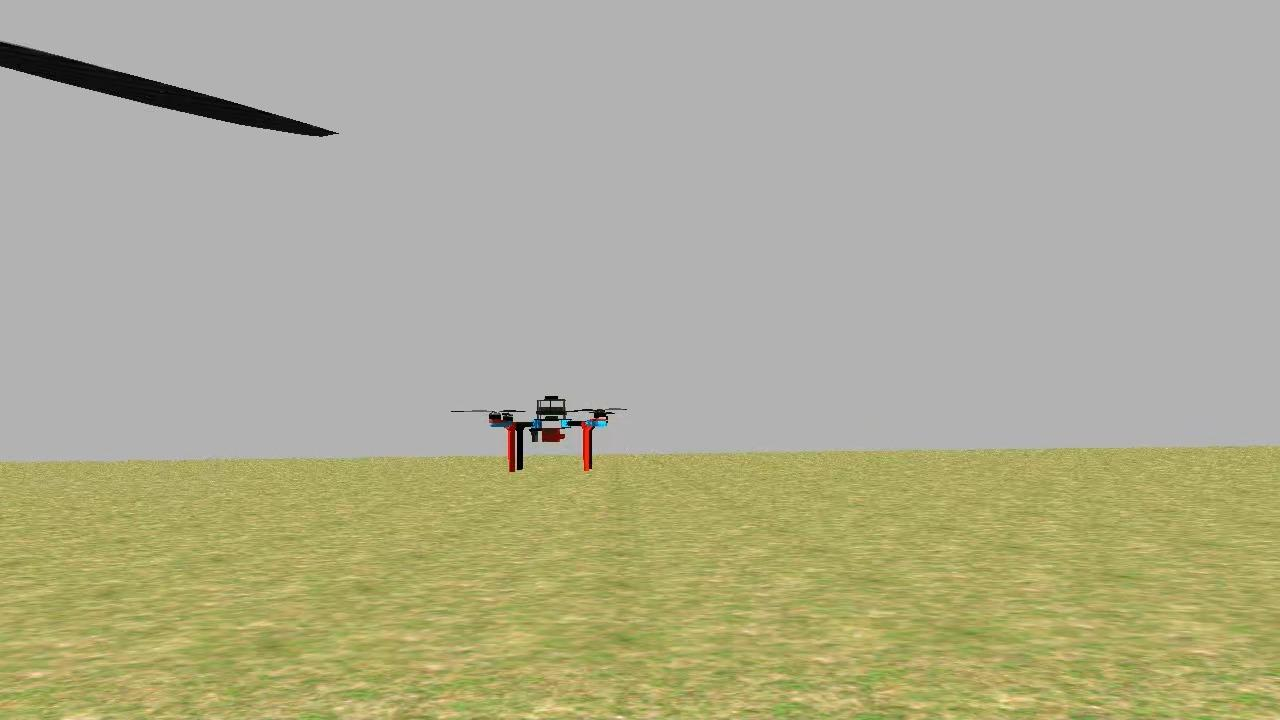UAV: (484, 388, 618, 478)
